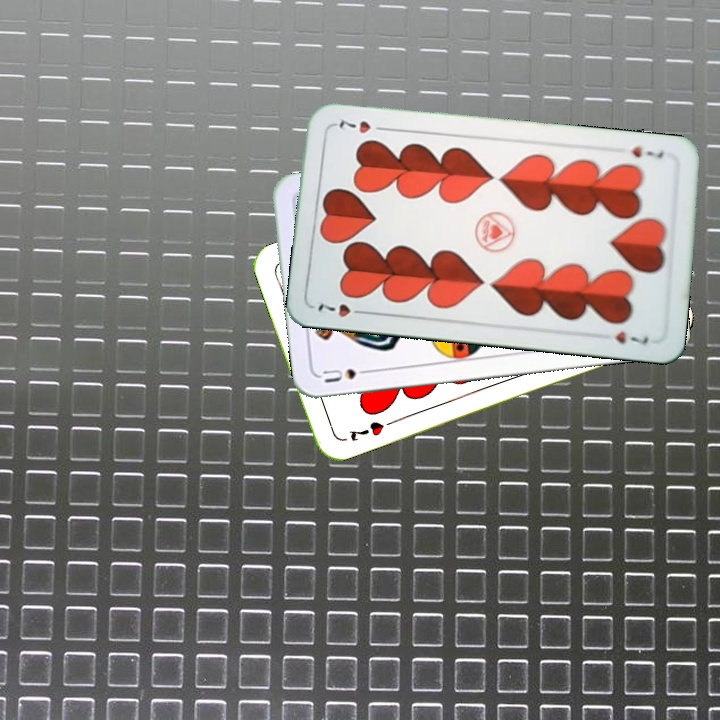H7: (314, 299, 370, 320), (345, 417, 387, 444), (627, 141, 667, 162)
SU: (319, 361, 376, 386)
